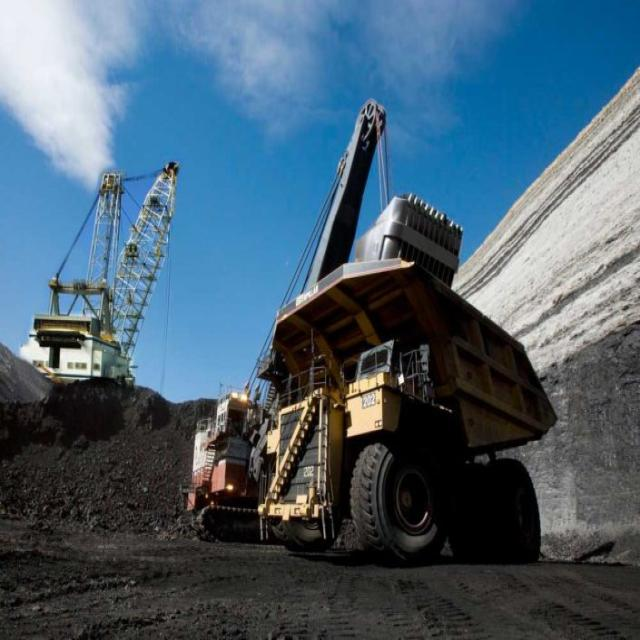dump_truck: (257, 252, 565, 571)
